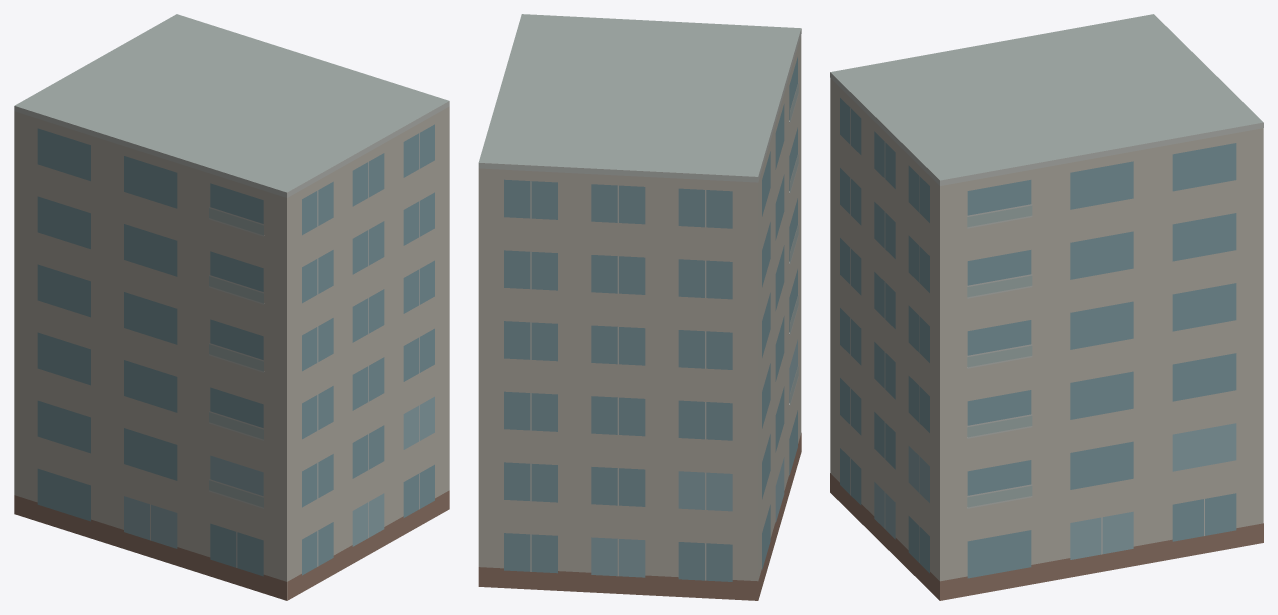
File: survey-upis-32582848.glb
3 renders of one model, left to right at view 1: azimuth 30°, elevation 25°; view 2: azimuth 150°, elevation 25°; view 3: azimuth 270°, elevation 25°, orthographic. The views are drawn at different scales.
Visible parts, largest first — view 1: survey-upis-32582848.tmp; view 2: survey-upis-32582848.tmp; view 3: survey-upis-32582848.tmp.
Part boxes in pixels (left/top/right/bottom): survey-upis-32582848.tmp: left=14, top=14, right=449, bottom=600; survey-upis-32582848.tmp: left=478, top=14, right=801, bottom=600; survey-upis-32582848.tmp: left=830, top=14, right=1263, bottom=600.
Size of the model in its own units: 15.56 by 18.3 by 17.12.
